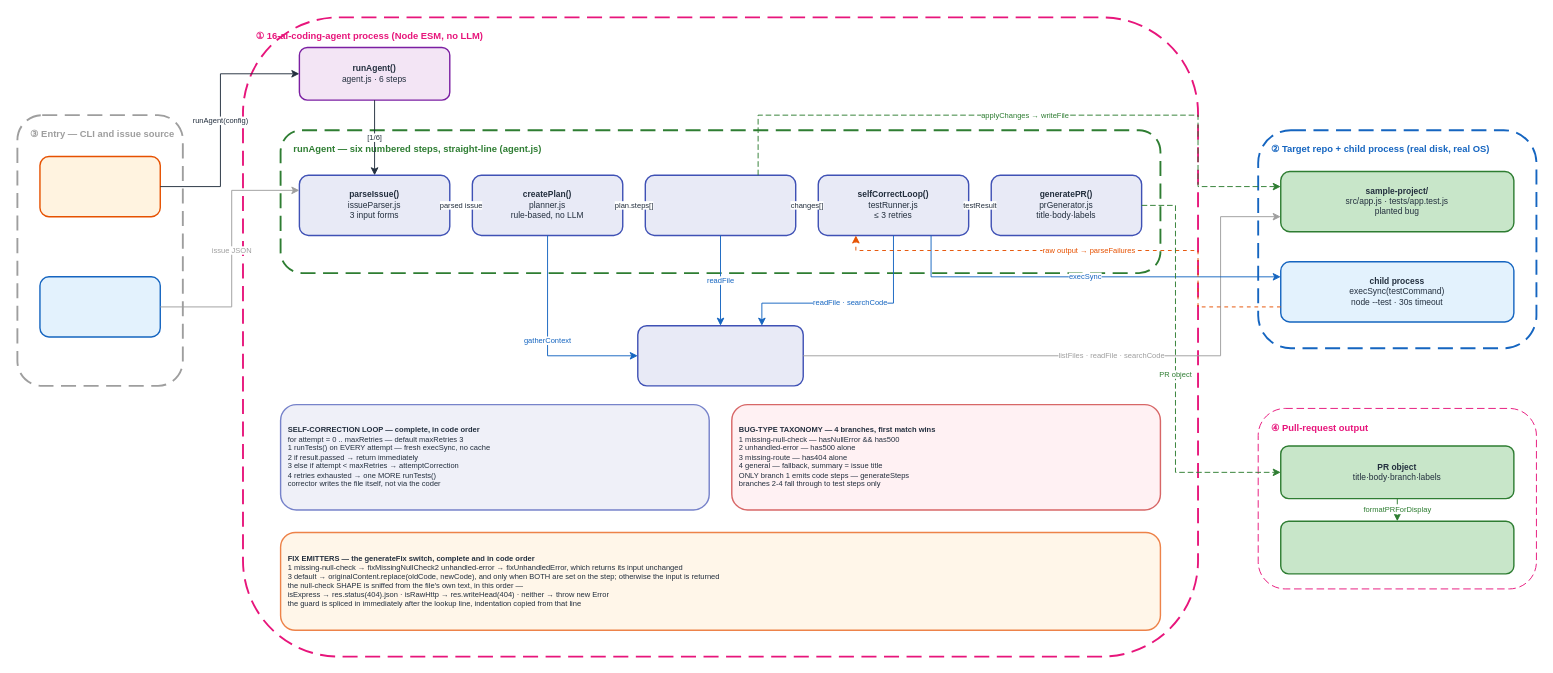
The diagram is 1553 pixels wide and 673 high, and some of its shapes have lost their labels. Each missing label, with the box of its shape:
createCoder() coder.js diff + applyChanges: (644, 174, 796, 236)
createExplorer() repoExplorer.js 5 tools · shared: (637, 325, 804, 386)
demo.js CLI · mock #1: (39, 155, 161, 217)
GitHub REST fetch() URL input only: (39, 276, 161, 337)
stdout formatPRForDisplay: (1280, 520, 1514, 574)
